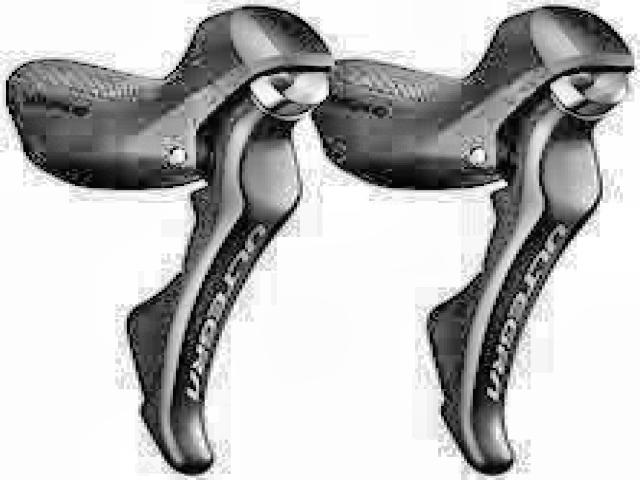sti_shifter: (2, 4, 342, 478), (316, 6, 638, 474)
